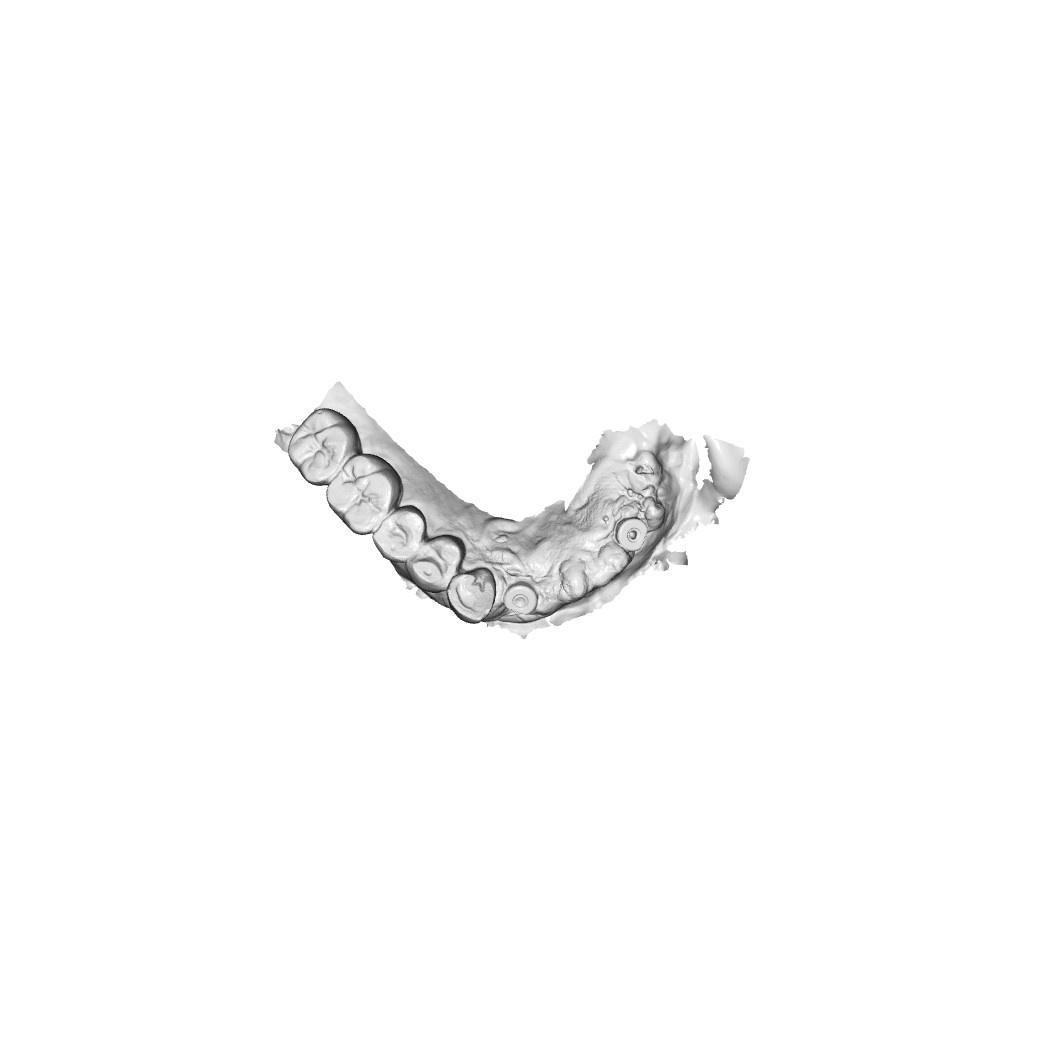canine: (449, 570, 495, 624)
implant: (618, 516, 654, 564), (500, 578, 539, 613)
molar: (285, 407, 361, 485), (329, 461, 403, 534)
premolar: (405, 535, 463, 594), (375, 503, 428, 559)
